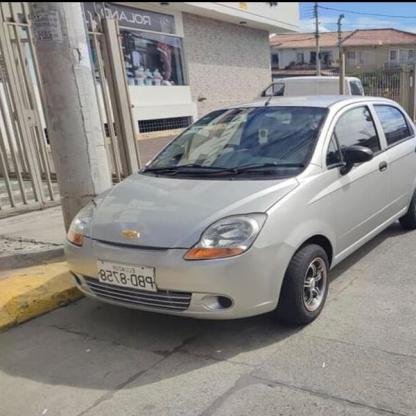Placa: (90, 264, 158, 294)
